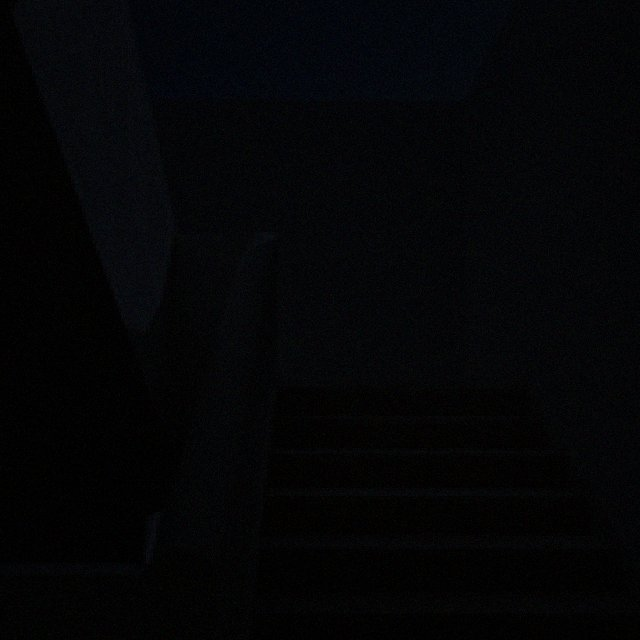stair: (253, 387, 639, 639)
